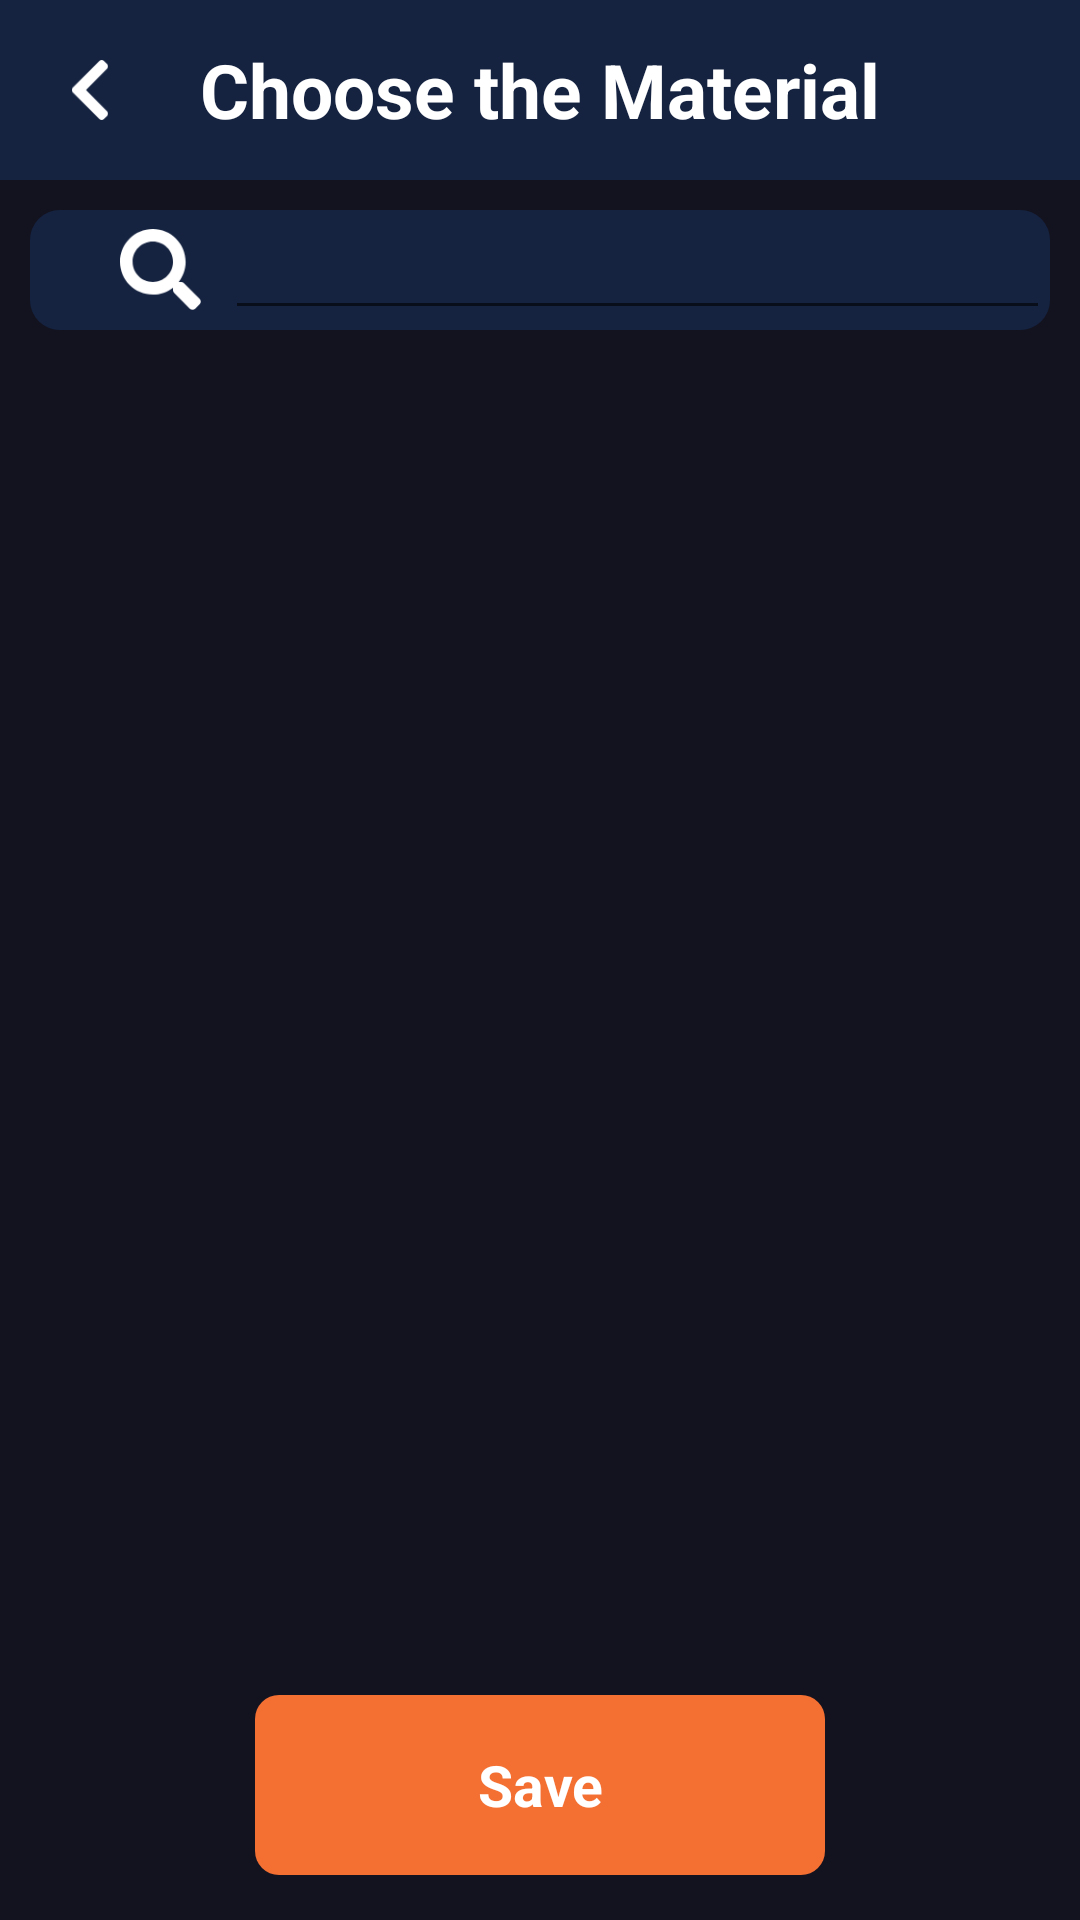

Locate icon controls on the screen. Image size 1080w x 1920h, boxes as (x1, y1, x2, y2).
back: (72, 60, 108, 120)
search: (120, 229, 201, 310)
